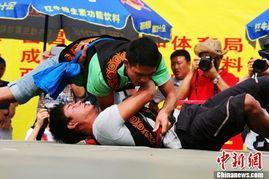Fall-Detected: (34, 64, 269, 151)
